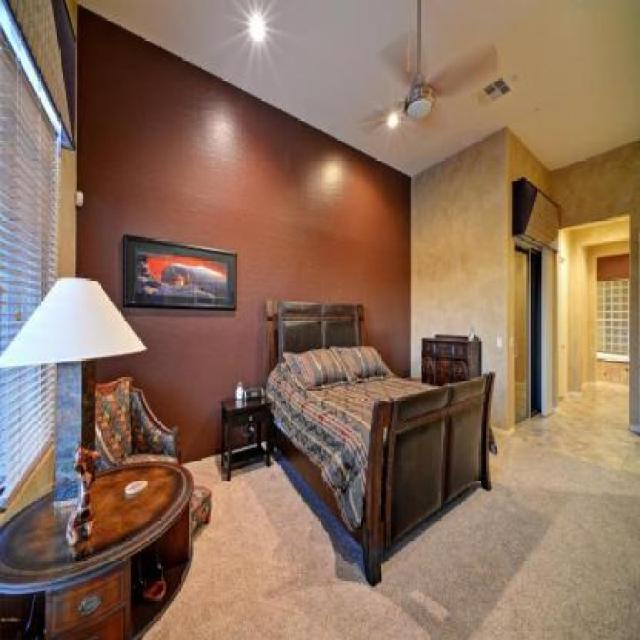floor: (137, 376, 640, 640)
